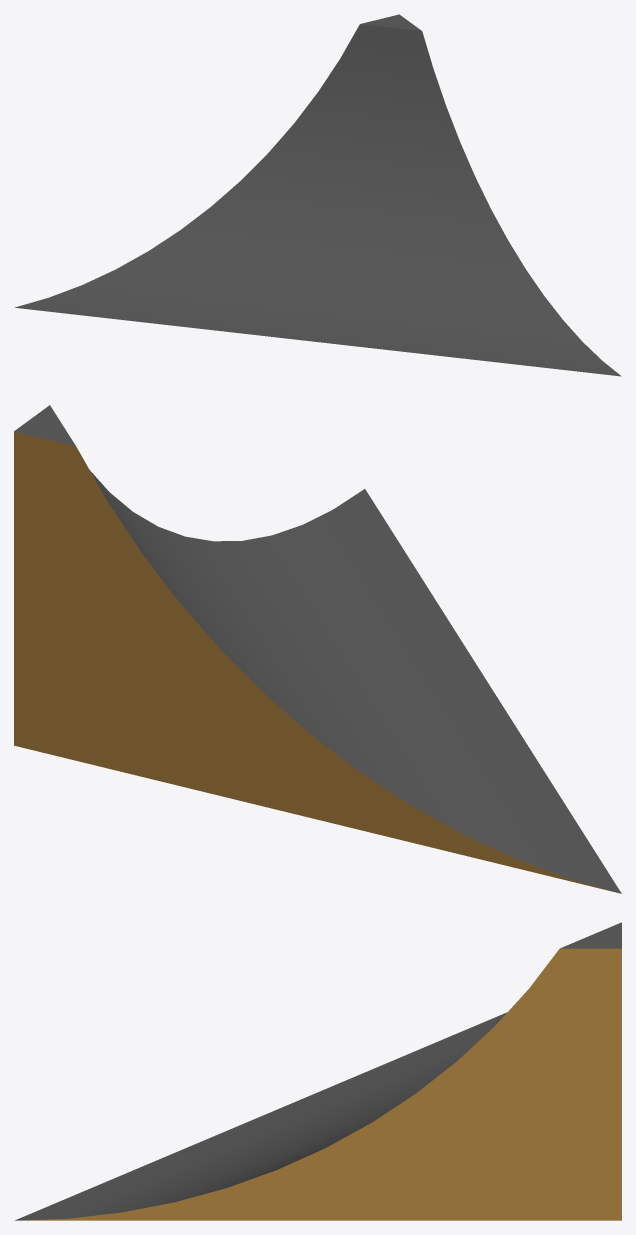
The model's file is Skate_Ramp_Curved_w_Back_Corner_01.FBX.
The picture shows the model from 3 angles, top to bottom: view 1: azimuth 30°, elevation 25°; view 2: azimuth 150°, elevation 25°; view 3: azimuth 270°, elevation 25°; orthographic projection. The views are drawn at different scales.
Parts seen in each view (by area): view 1: Skate_Ramp_Curved_w_Back_Corner_01; view 2: Skate_Ramp_Curved_w_Back_Corner_01; view 3: Skate_Ramp_Curved_w_Back_Corner_01.
Part boxes in pixels (x1,y1,x2,y2): Skate_Ramp_Curved_w_Back_Corner_01: [15, 14, 621, 376]; Skate_Ramp_Curved_w_Back_Corner_01: [14, 405, 621, 893]; Skate_Ramp_Curved_w_Back_Corner_01: [15, 922, 621, 1220].
Bounding box in the file's own units: 3 × 1.48 × 3.
